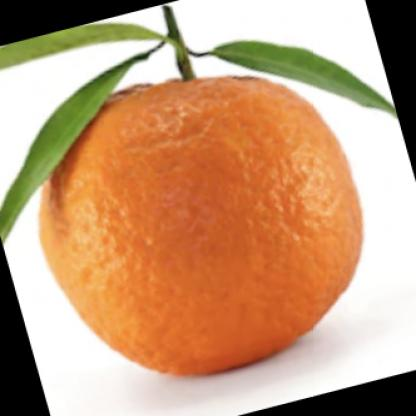orange: (25, 55, 377, 377)
